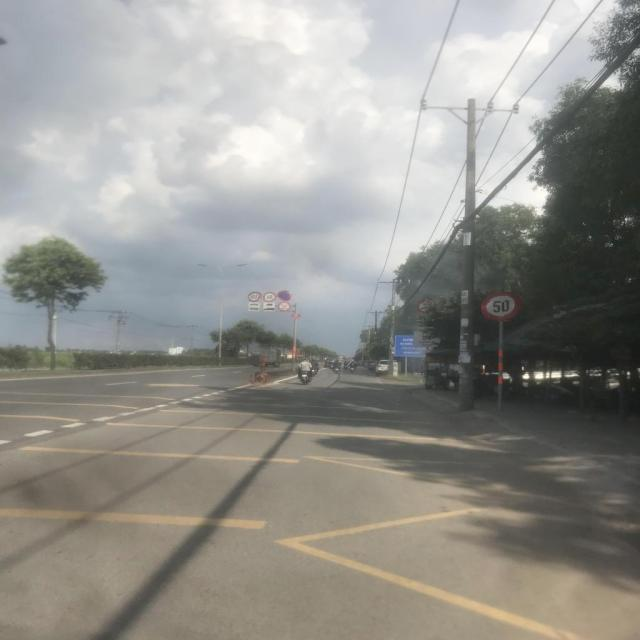cam_dung_xe_va_do_xe: (278, 291, 292, 301)
cam_o_to_tai_va_xe_khach: (418, 298, 436, 314)
cam_xe_2_banh_va_xe_3_banh_co_dong_co: (277, 301, 291, 312)
khac: (248, 306, 260, 311), (263, 306, 275, 311), (248, 302, 261, 306), (263, 303, 275, 307)
toc_do_toi_da_50: (482, 292, 522, 322)
toc_do_toi_da_60: (263, 292, 276, 302)
toc_do_toi_da_80: (249, 291, 262, 302)
